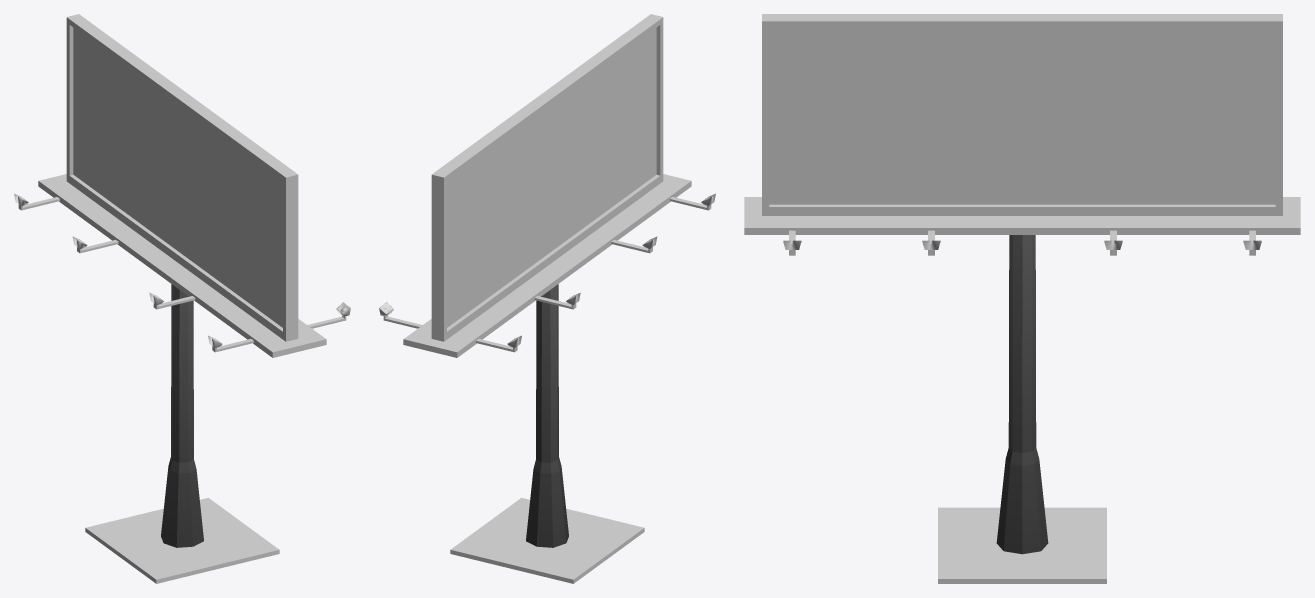
The model's file is VideoTron1.fbx.
3 views of the same model, side by side, from view 1: azimuth 30°, elevation 25°; view 2: azimuth 150°, elevation 25°; view 3: azimuth 270°, elevation 25° (orthographic). The views are drawn at different scales.
Visible parts, largest first — view 1: Plane.055, Plane.034, Plane.054, Cube.023, Plane.056; view 2: Plane.055, Plane.034, Plane.054, Cube.023, Plane.056; view 3: Plane.055, Plane.054, Plane.034, Cube.023, Plane.056.
Part boxes in pixels (<box>): Plane.055: <box>66,14,298,341</box>; Plane.034: <box>85,497,279,583</box>; Plane.054: <box>38,174,326,357</box>; Cube.023: <box>161,284,203,547</box>; Plane.056: <box>14,193,350,352</box>; Plane.055: <box>431,14,663,341</box>; Plane.034: <box>450,497,644,583</box>; Plane.054: <box>403,174,691,357</box>; Cube.023: <box>526,284,568,547</box>; Plane.056: <box>379,193,715,352</box>; Plane.055: <box>762,14,1282,215</box>; Plane.054: <box>744,197,1300,234</box>; Plane.034: <box>938,507,1106,583</box>; Cube.023: <box>996,235,1048,554</box>; Plane.056: <box>783,230,1261,255</box>.
Bounding box in the file's own units: 439 × 1384 × 1314.
